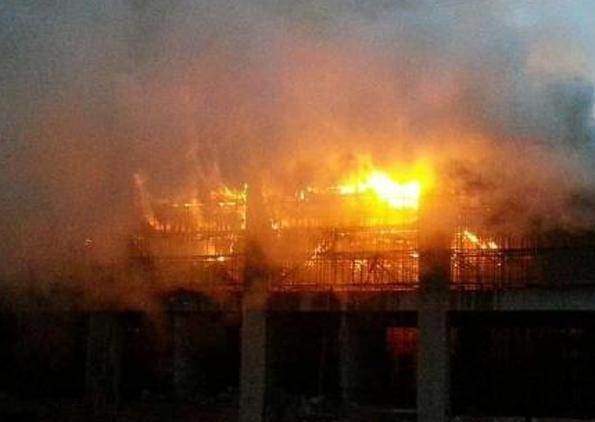fire: (329, 157, 435, 212), (455, 226, 502, 252)
